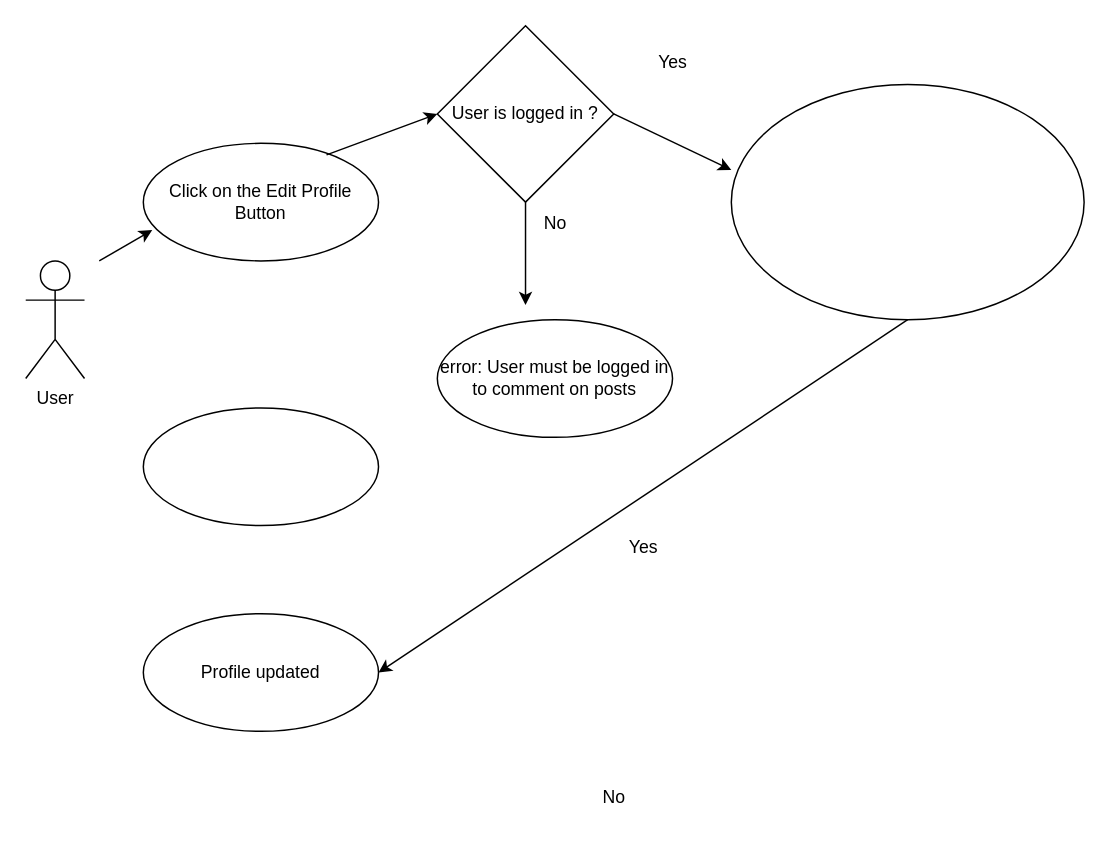
Some shapes in this 1110 by 845 pixel diagram are drawn without their labels. Each missing label, with the box of its shape:
changer mot de passe ailleurs: (142, 406, 379, 526)
Fills the fields: - username: (730, 83, 1084, 320)
